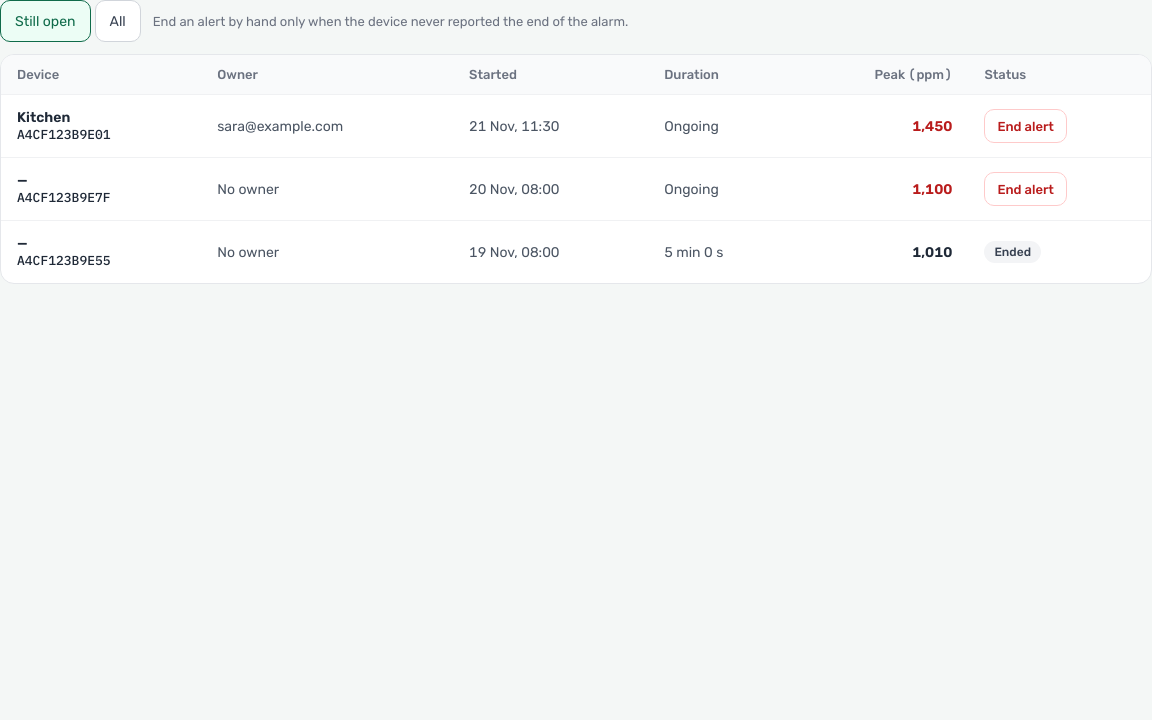
Test: AdminAlerts › a failed end shows the error above the table; asking again clears it
This screenshot has width=1152, height=720.
What coordinates should you click on to do the following:
click the button "End alert" in the row of "Kitchen"
I would click on:
 (1026, 126)
Its box is [984, 109, 1067, 143].
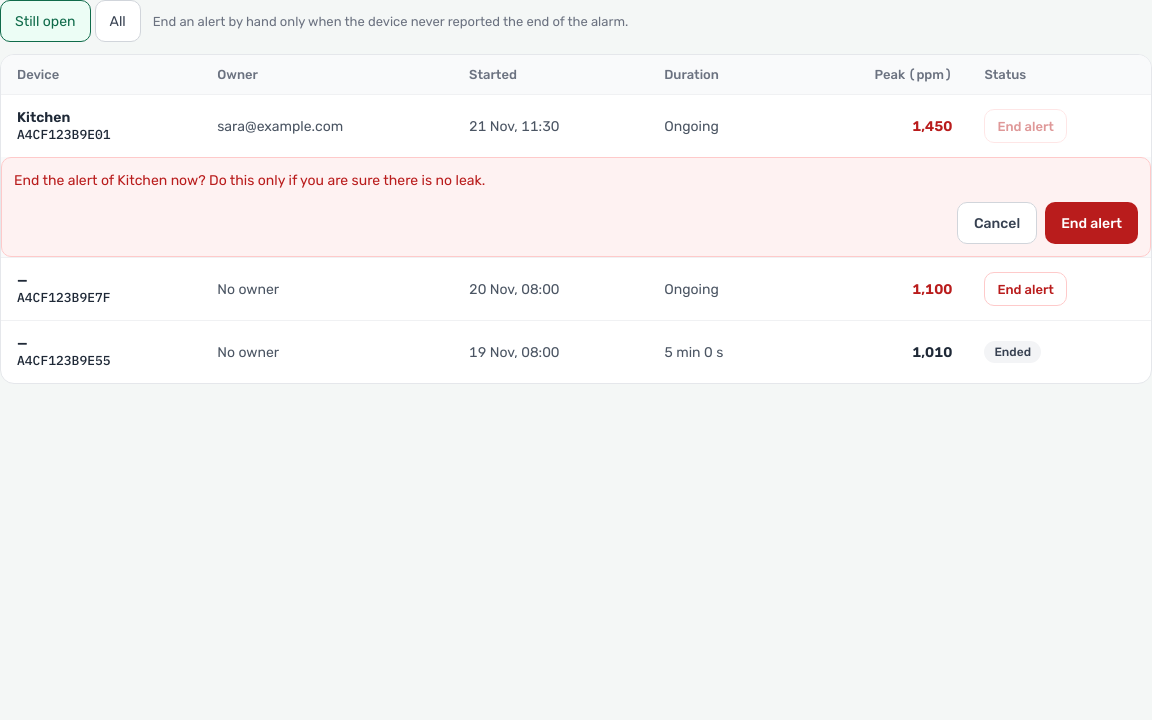
What coordinates should you click on to do the following:
click the 2nd button "End alert"
I would click on:
 (1092, 223)
Its box is [1045, 202, 1138, 244].
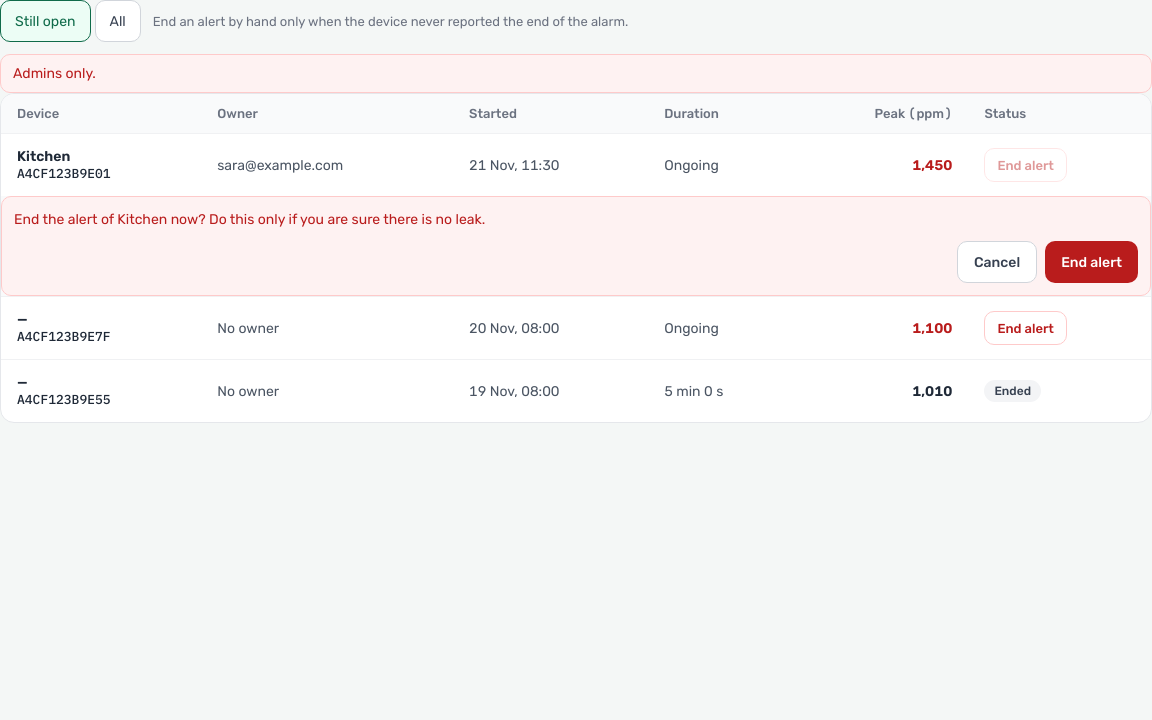
Expected: the dialog is shown, [1, 196, 1151, 296]
What coordinates should you click on to do the following:
click the button "Cancel"
I would click on:
 (997, 262)
Its box is [957, 241, 1037, 283].
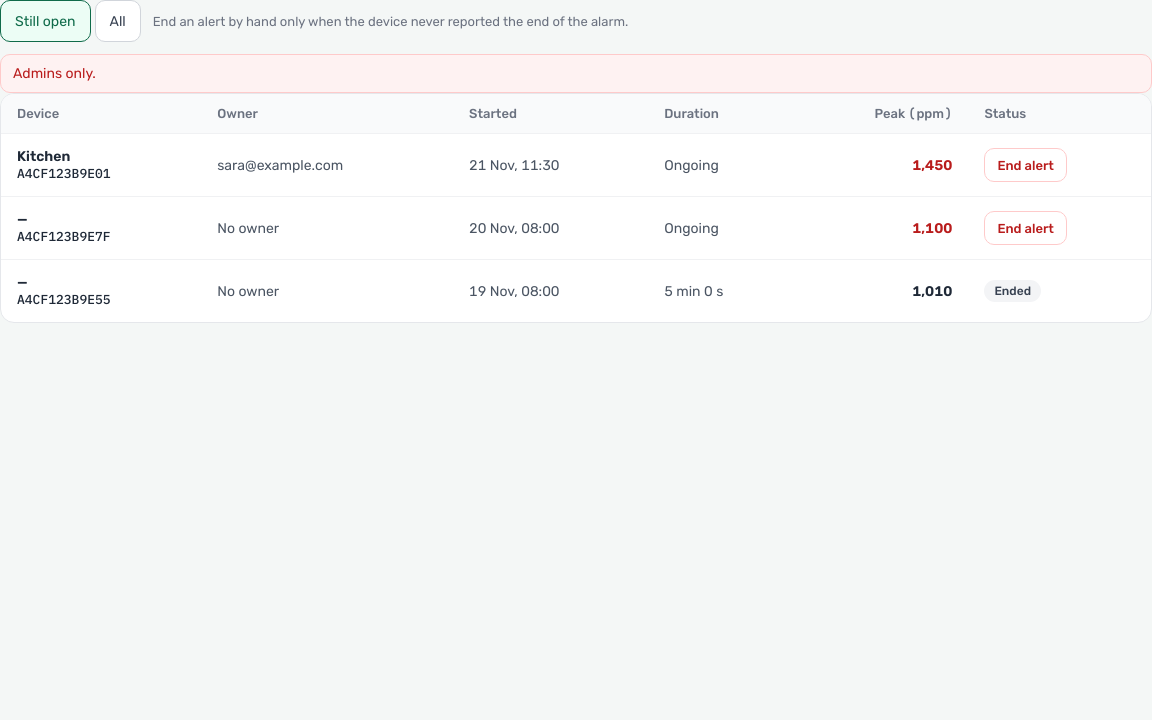
Expected: the message "Admins only." is shown, [0, 54, 1151, 93]
What coordinates should you click on to do the following:
click the button "End alert" in the row of "A4CF123B9E7F"
I would click on:
 (1026, 228)
Its box is [984, 211, 1067, 245].
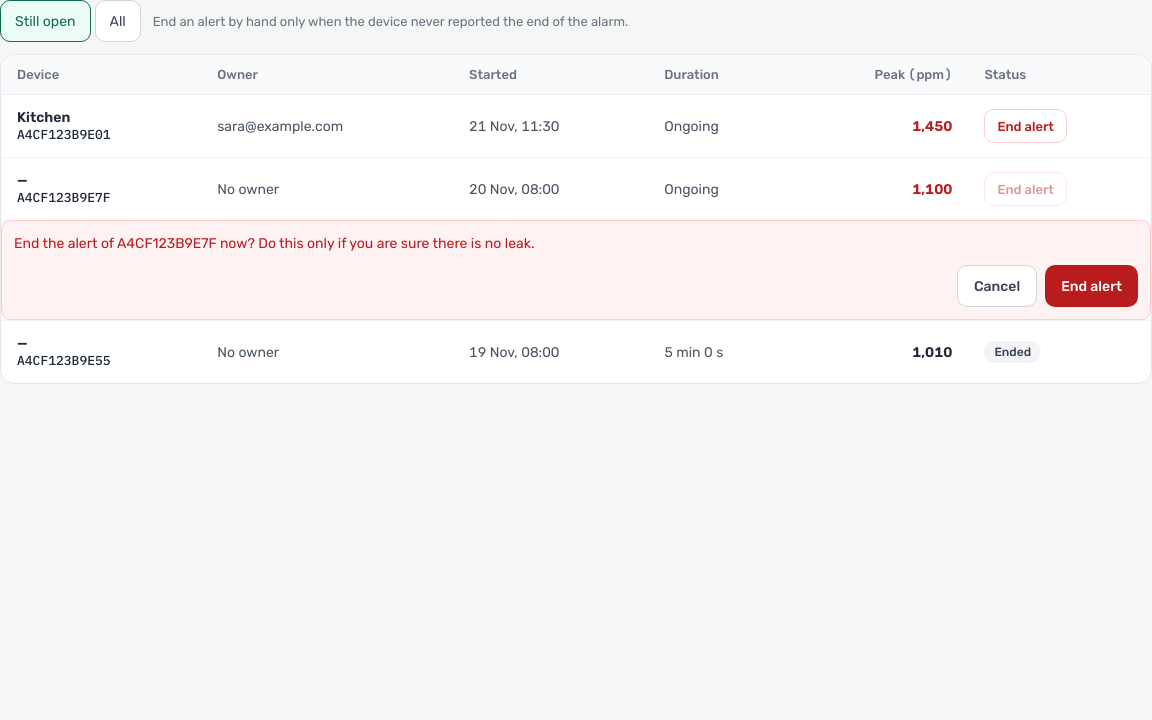
Expected: the message with class "form-error" is gone
